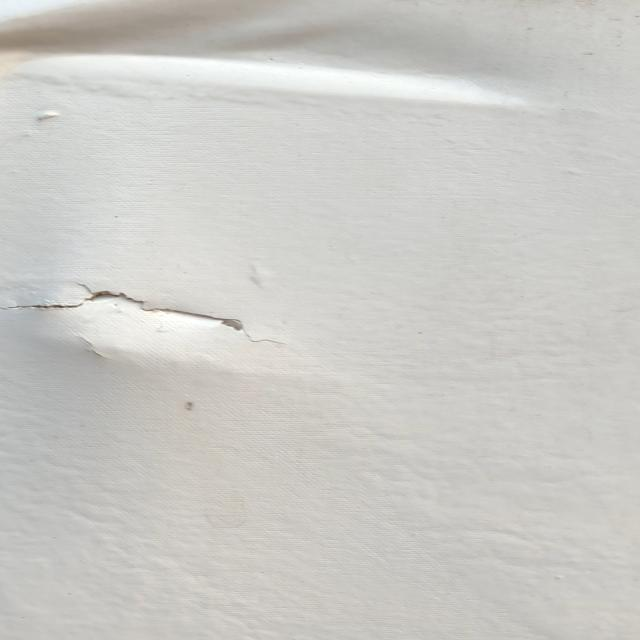Dents or Deformation: (1, 1, 594, 114)
Scratches: (1, 285, 309, 356)
